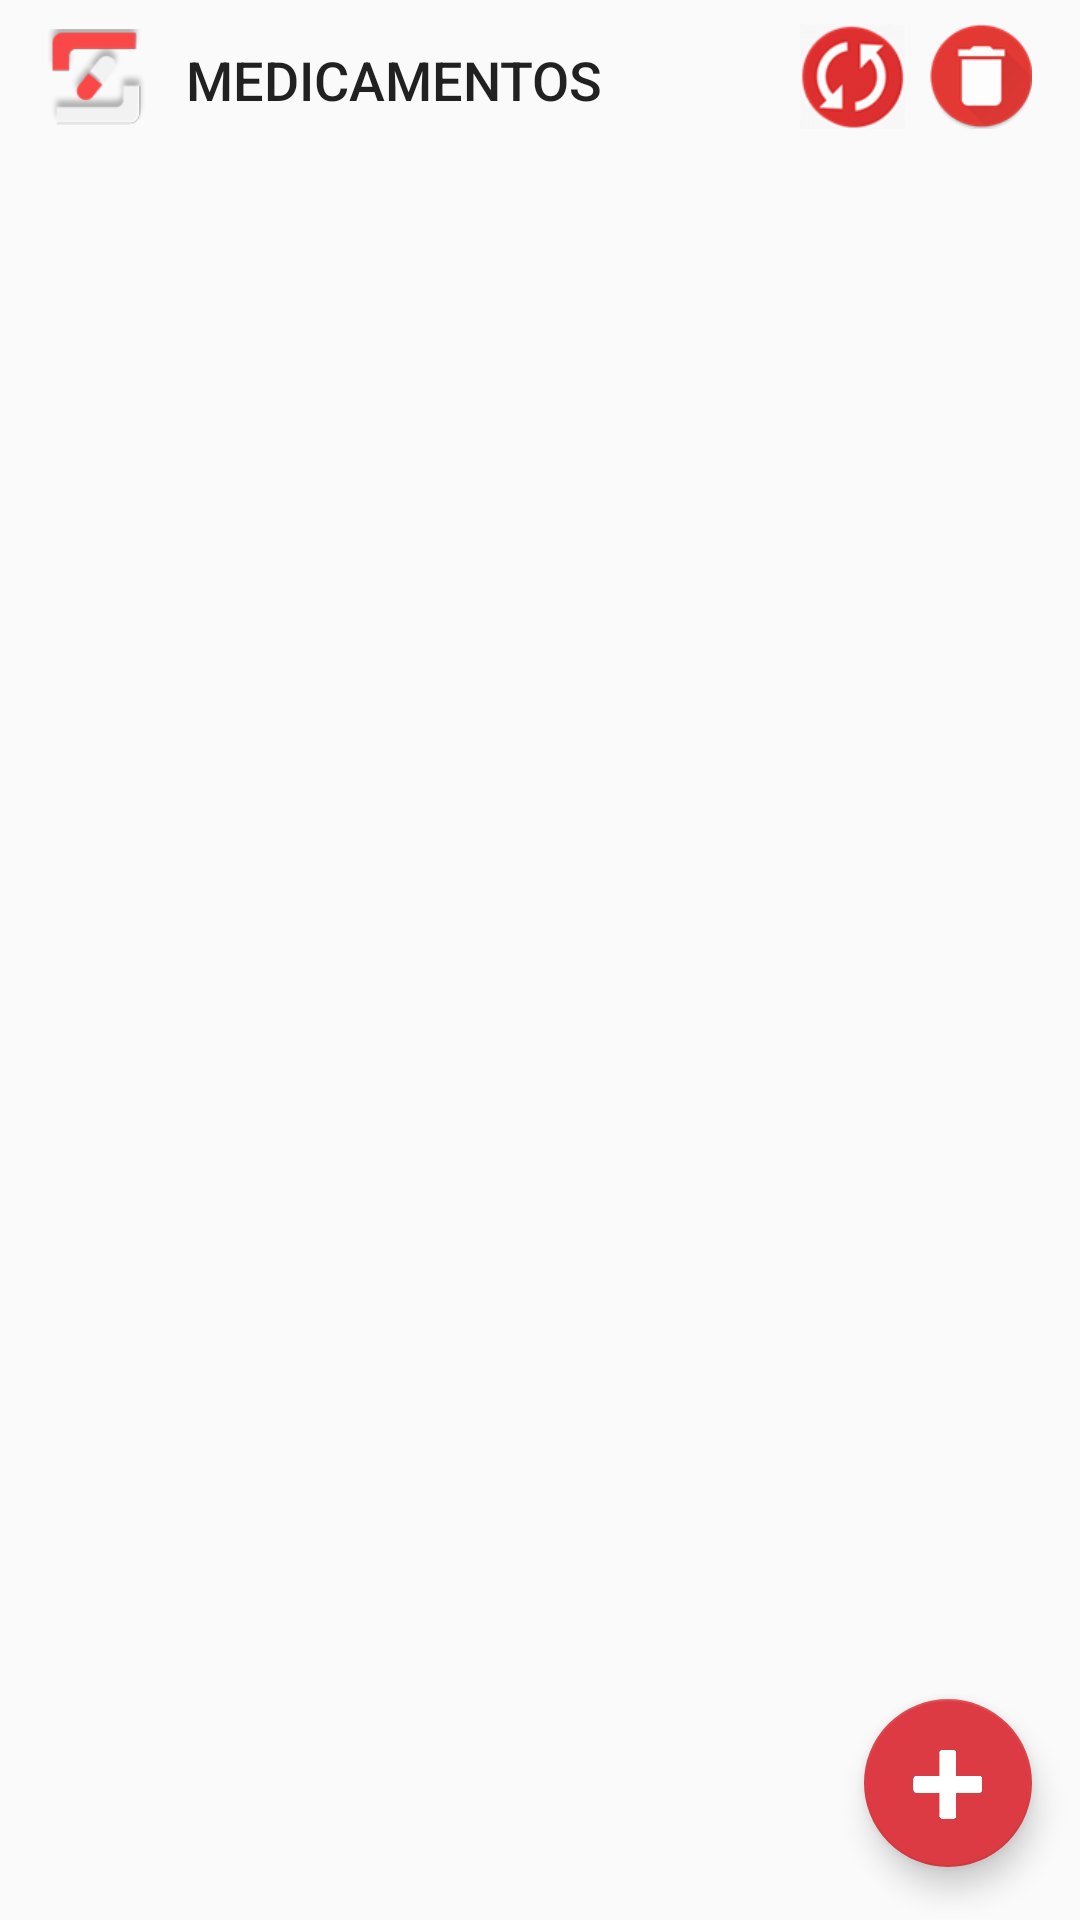

Screen size 1080w x 1920h. Icon name, then its center in pixels as point (x, y):
delete: point (981, 77)
plus: point (948, 1783)
update: point (853, 77)
